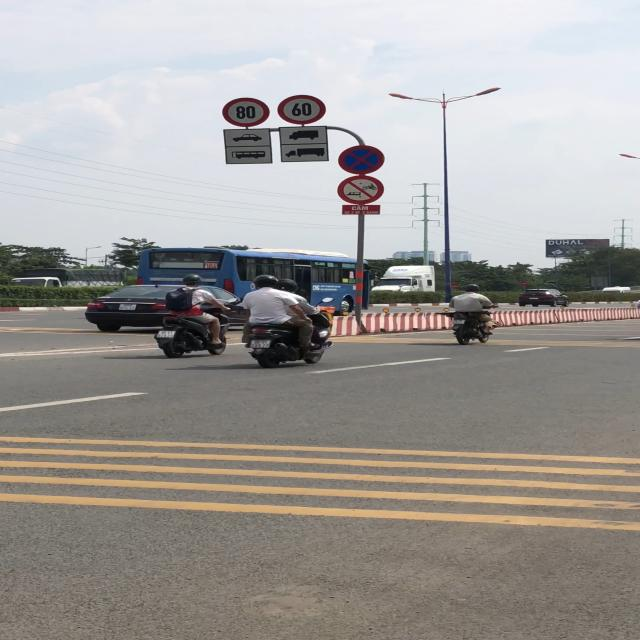Bien bao cam dung xe va do xe: (336, 144, 384, 175)
Bien bao toc do toi da cho phep: (274, 93, 330, 125), (220, 96, 271, 128)
